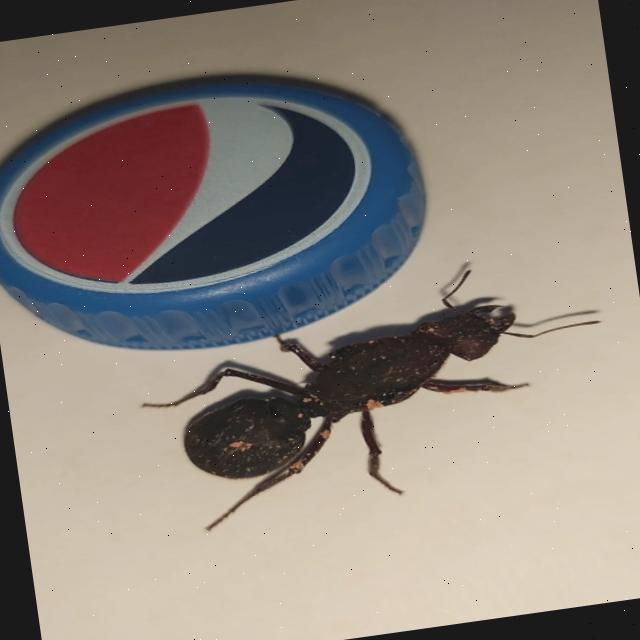Alive-Female-Dealate: (128, 252, 622, 538)
